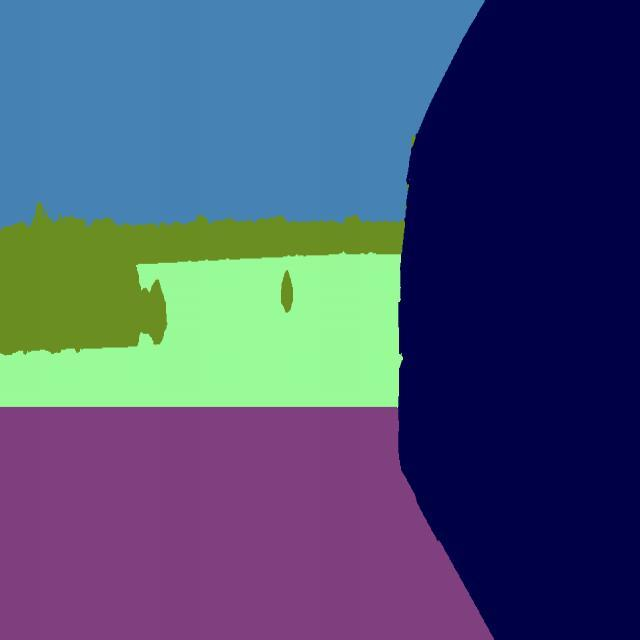unsafe: (395, 0, 640, 640)
